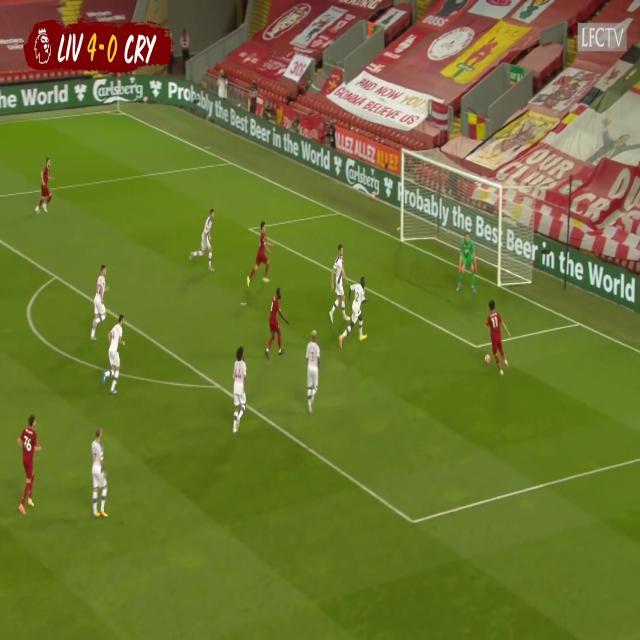Ball: (484, 351, 492, 367)
GoalKeeper: (454, 227, 478, 300)
TEAM 1: (17, 412, 40, 515), (246, 216, 272, 295), (264, 285, 289, 360), (35, 142, 58, 219), (489, 296, 509, 374)
TEAM 2: (185, 204, 218, 280), (338, 274, 373, 344), (100, 314, 128, 398), (228, 345, 252, 440), (86, 264, 112, 338), (90, 426, 110, 520), (303, 329, 323, 416), (329, 242, 347, 325)
